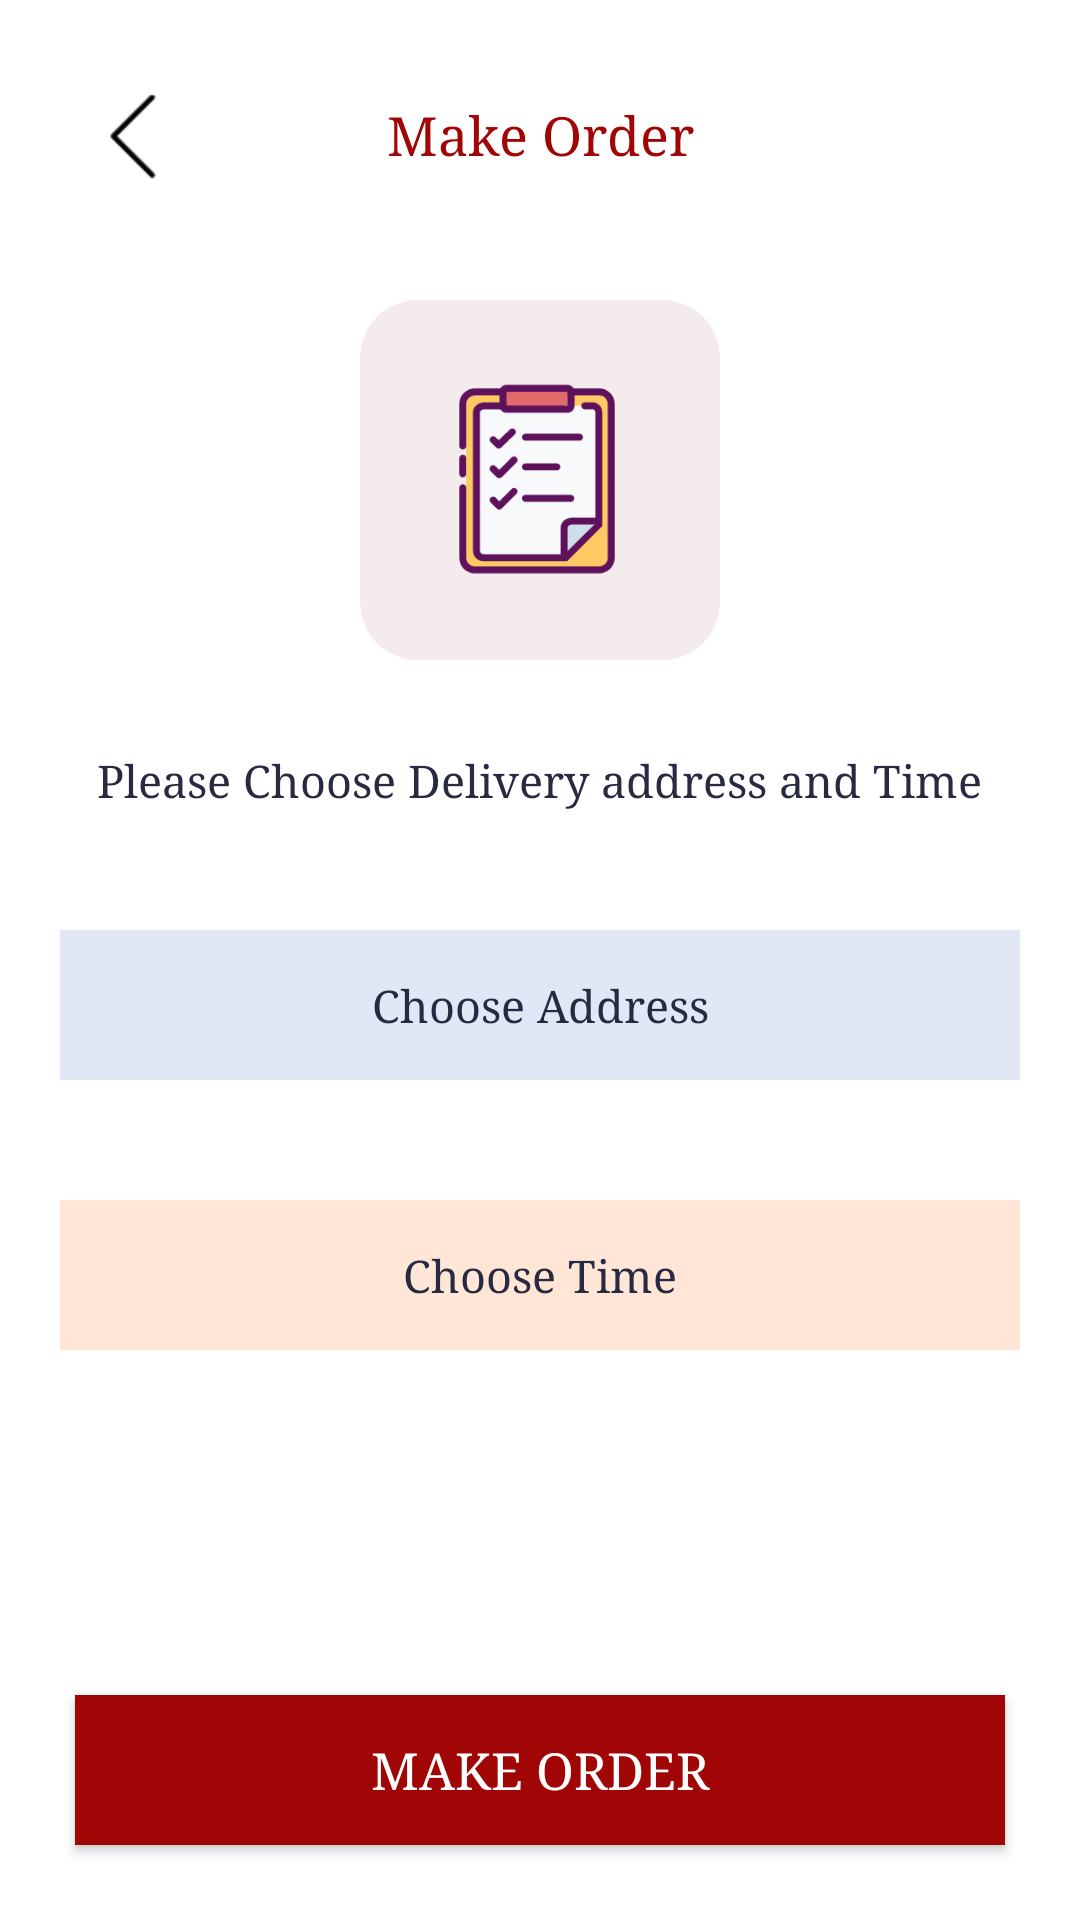

Locate icon controls on the screen. Image size 1080x1920, boxes as (x1, y1, x2, y2).
left: (110, 95, 156, 179)
orders profile: (459, 384, 615, 574)
